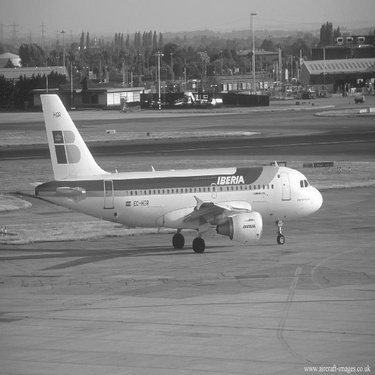airplane: (25, 81, 328, 260)
